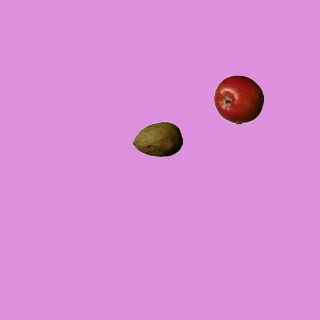Apple Braeburn: (213, 74, 263, 124)
Papaya: (132, 114, 182, 164)
